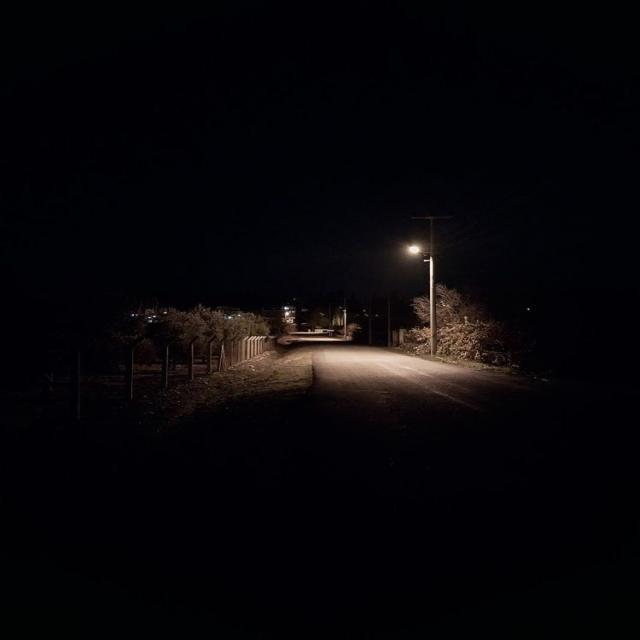on: (388, 226, 474, 298)
